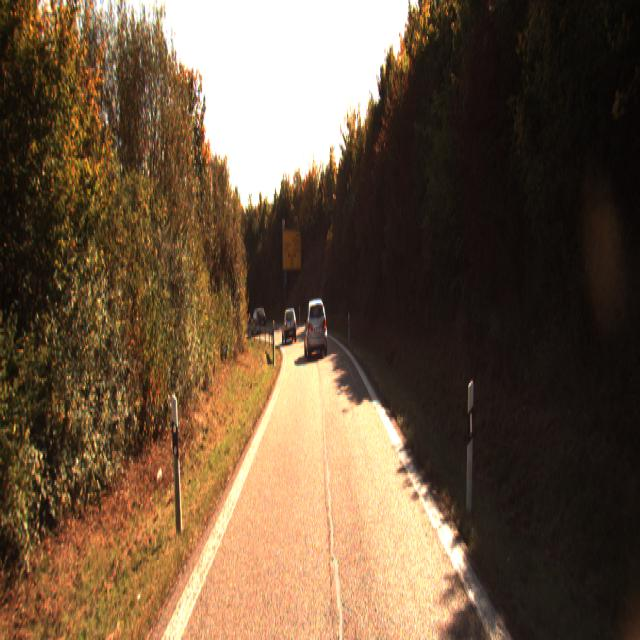Car: (304, 296, 327, 356), (282, 307, 298, 343), (250, 306, 267, 332)
